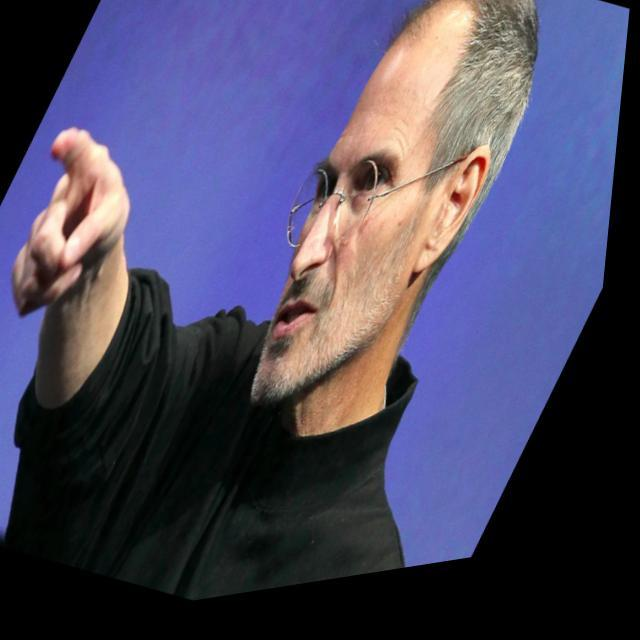Nonhelmet: (235, 0, 550, 426)
